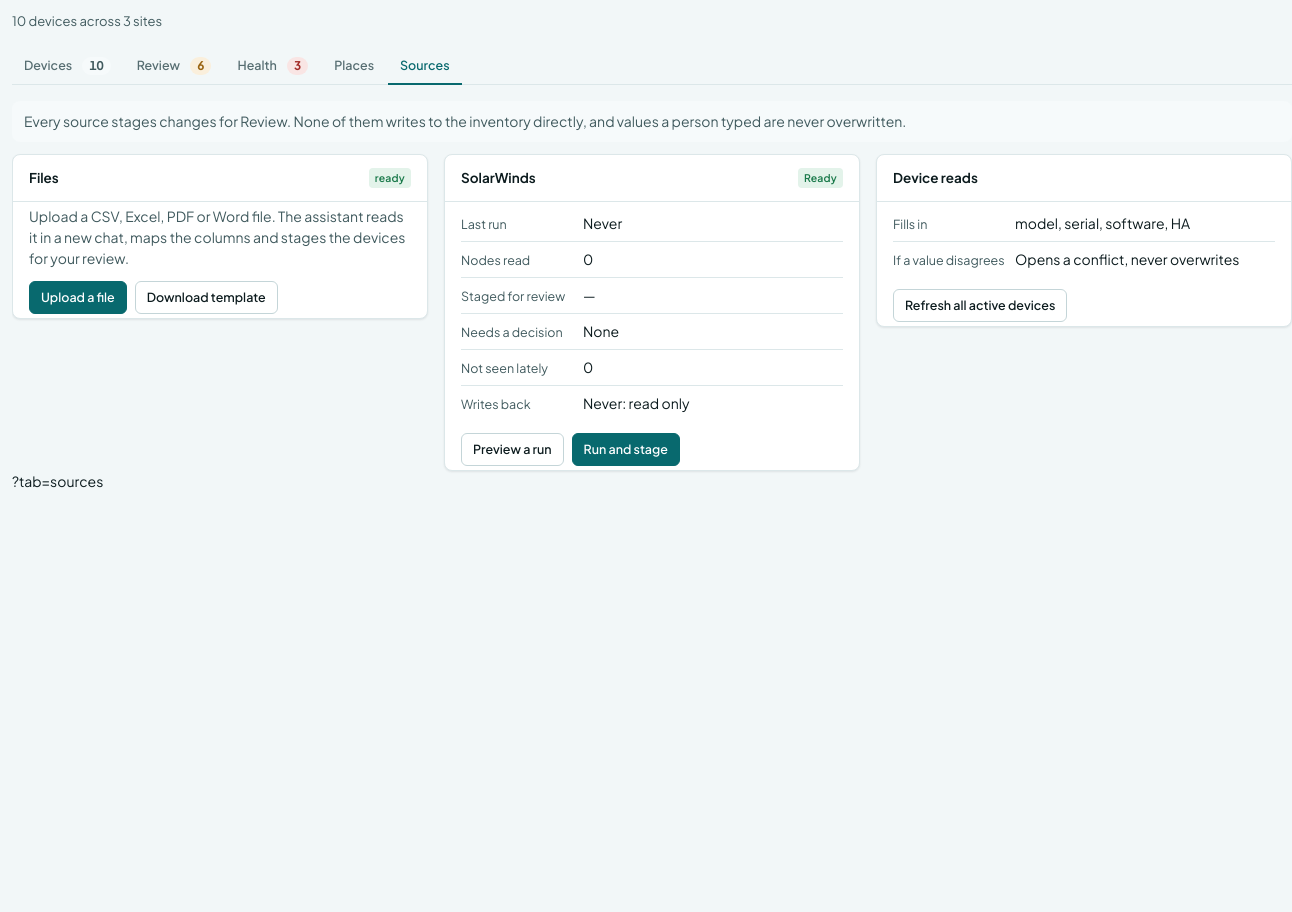
Scenario: Sources tab › Run and stage posts dry_run false and links the batch in Review
This screenshot has width=1292, height=912.
Check: the element with test id "sources-panel" is shown, box [12,100,1291,470]
What coordinates should you click on to do the following:
click the button with test id "solarwinds-run"
I would click on:
 (626, 449)
Its box is [572,433,680,466].
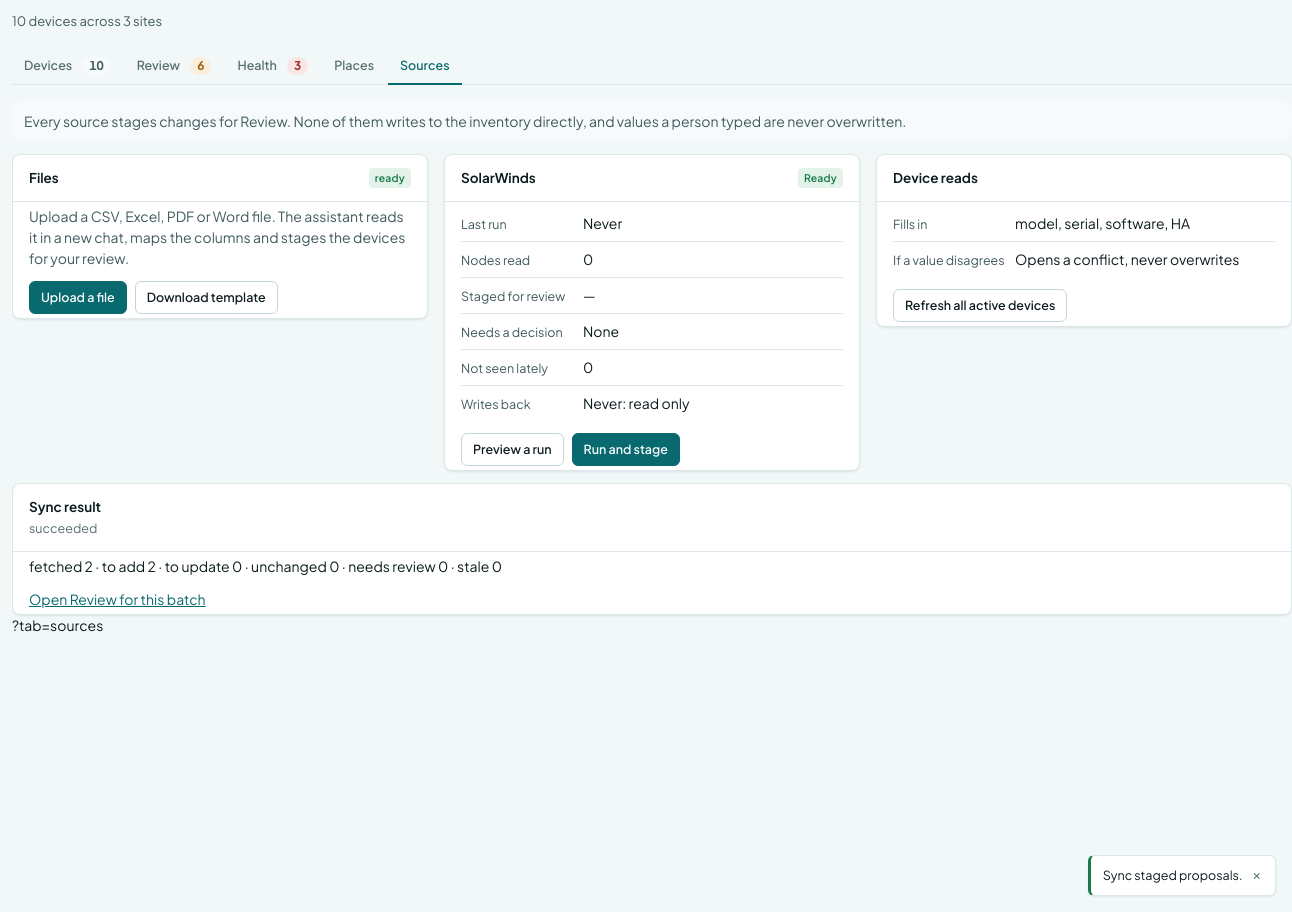
Check: the link with test id "sync-batch-link" is shown, box [29,590,206,608]
